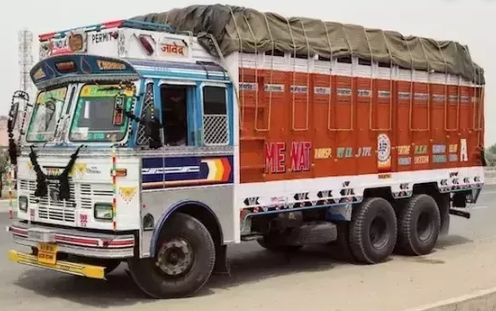truck: (13, 1, 485, 304)
